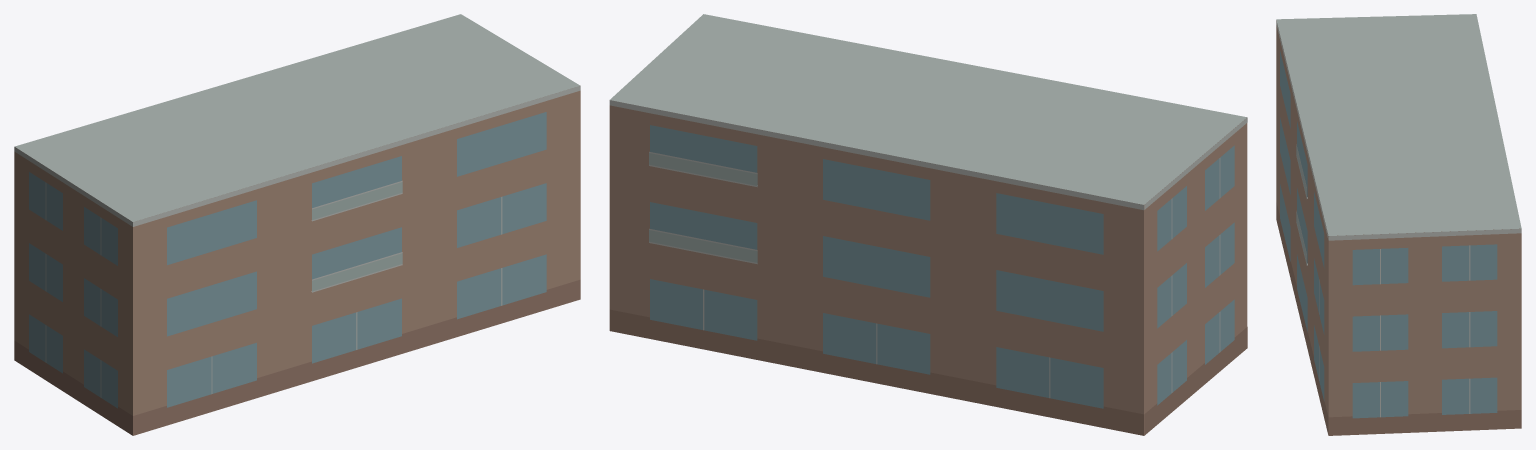
The model's file is survey-upis-32753598.glb.
3 renders of one model, left to right at view 1: azimuth 30°, elevation 25°; view 2: azimuth 150°, elevation 25°; view 3: azimuth 270°, elevation 25°, orthographic. The views are drawn at different scales.
Visible parts, largest first — view 1: survey-upis-32753598.tmp; view 2: survey-upis-32753598.tmp; view 3: survey-upis-32753598.tmp.
Boxes of the visible parts, box(x1,y1,x2,y2) form: survey-upis-32753598.tmp: box(14, 14, 580, 435); survey-upis-32753598.tmp: box(609, 14, 1247, 435); survey-upis-32753598.tmp: box(1276, 14, 1521, 435).
Size of the model in its own units: 25.28 by 10.6 by 11.81.
